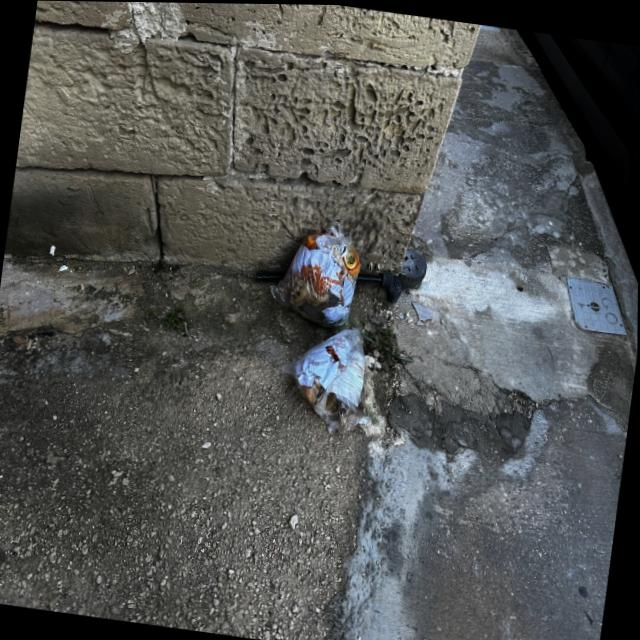Organic Waste -White Bags-: (270, 218, 361, 333), (282, 328, 371, 434)
